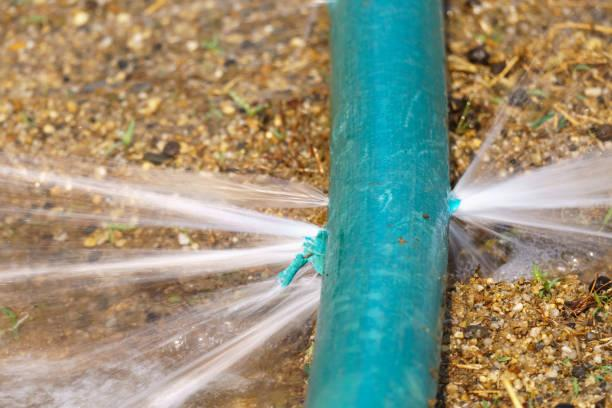pipe burst: (0, 158, 335, 408), (441, 80, 612, 268)
